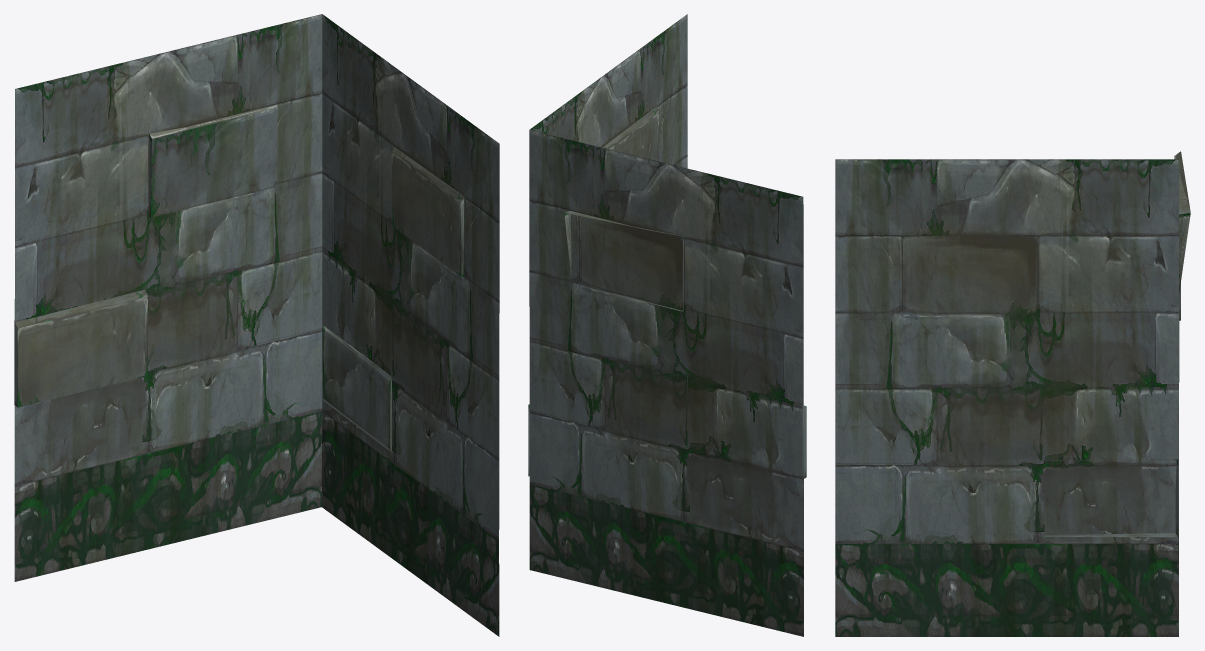
The model's file is stemple_wall_concave_06.fbx.
3 renders of one model, left to right at view 1: azimuth 30°, elevation 25°; view 2: azimuth 150°, elevation 25°; view 3: azimuth 270°, elevation 25°, orthographic. The views are drawn at different scales.
Parts seen in each view (by area): view 1: obj2.006; view 2: obj2.006; view 3: obj2.006.
Boxes of the visible parts, left/top/right/bottom form: obj2.006: left=14, top=14, right=499, bottom=636; obj2.006: left=528, top=14, right=806, bottom=636; obj2.006: left=835, top=151, right=1190, bottom=636.
Size of the model in its own units: 3.61 by 5.5 by 3.71.
